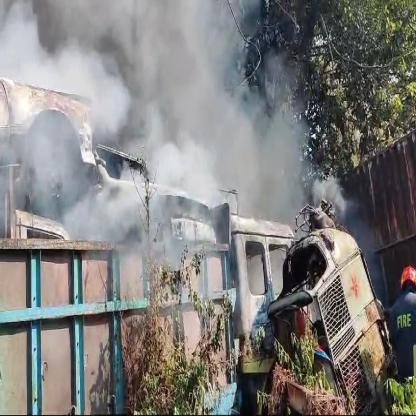Smoke: (0, 0, 353, 297)
